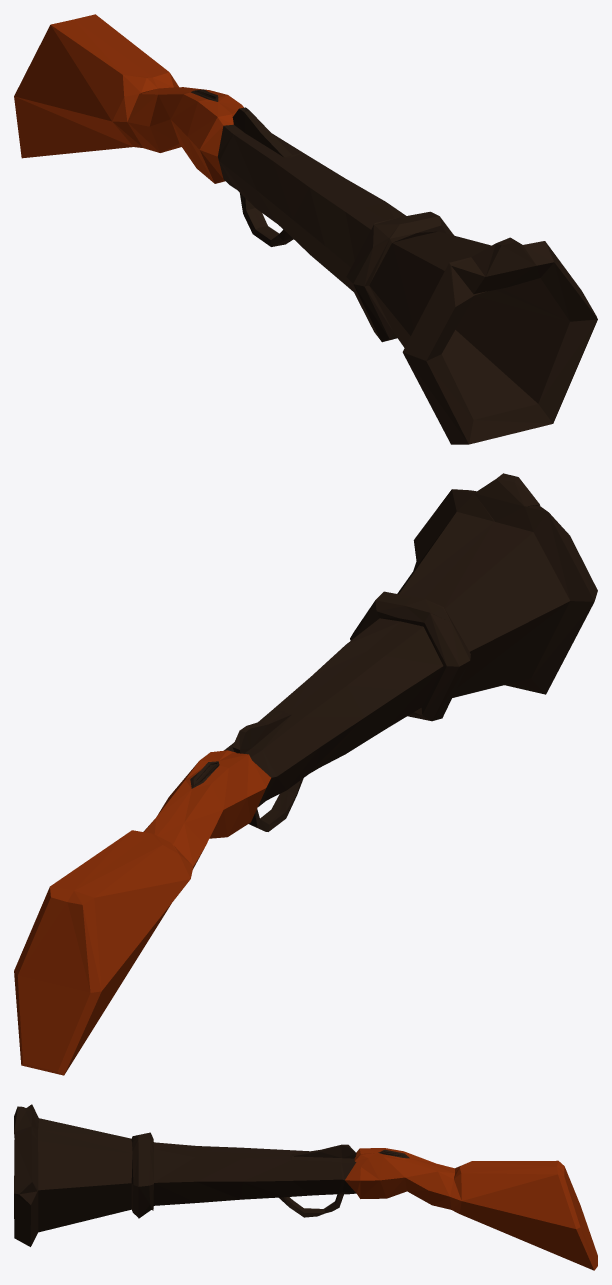
The model's file is SFFA_Shotgun_002.fbx.
3 renders of one model, top to bottom at view 1: azimuth 30°, elevation 25°; view 2: azimuth 150°, elevation 25°; view 3: azimuth 270°, elevation 25°, orthographic. The views are drawn at different scales.
Visible parts, largest first — view 1: SFFA_Shotgun_002; view 2: SFFA_Shotgun_002; view 3: SFFA_Shotgun_002.
Boxes of the visible parts, x1=… form: SFFA_Shotgun_002: x1=14, y1=14, x2=597, y2=444; SFFA_Shotgun_002: x1=14, y1=473, x2=597, y2=1075; SFFA_Shotgun_002: x1=14, y1=1104, x2=597, y2=1270.
Size of the model in its own units: 18.95 by 24.78 by 84.24.
